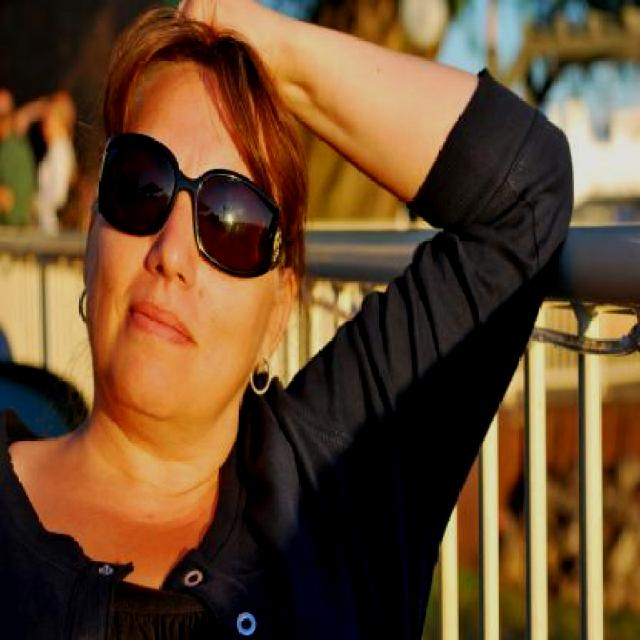face_nomask: (87, 154, 281, 361)
glasses: (100, 124, 280, 296)
